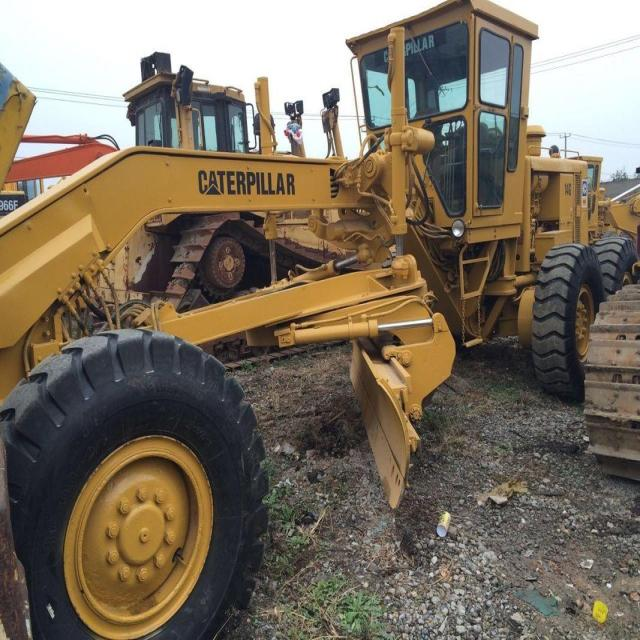buldozerpayloadergrader: (8, 4, 640, 639)
